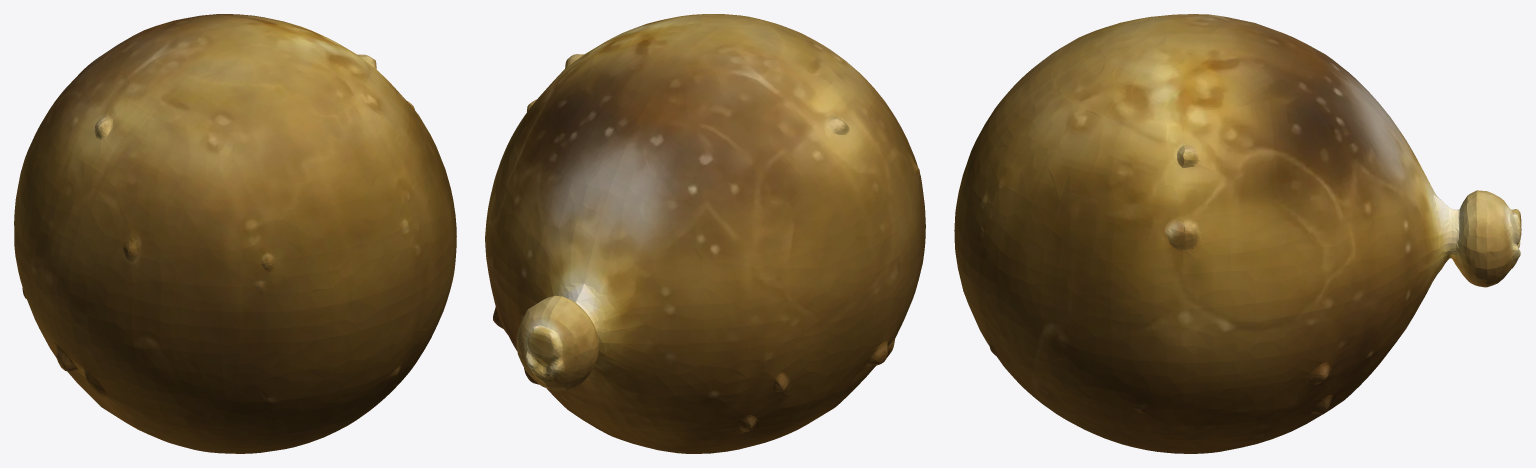
The picture shows the model from 3 angles, left to right: view 1: azimuth 30°, elevation 25°; view 2: azimuth 150°, elevation 25°; view 3: azimuth 270°, elevation 25°; orthographic projection.
Parts seen in each view (by area): view 1: world; view 2: world; view 3: world.
Boxes of the visible parts, box(x1,y1,x2,y2) form: world: box(14, 14, 456, 453); world: box(485, 14, 925, 453); world: box(954, 14, 1521, 453).
Size of the model in its own units: 0.7722 by 0.7758 by 0.9987.
Materials: 1 (1 with a texture image).
